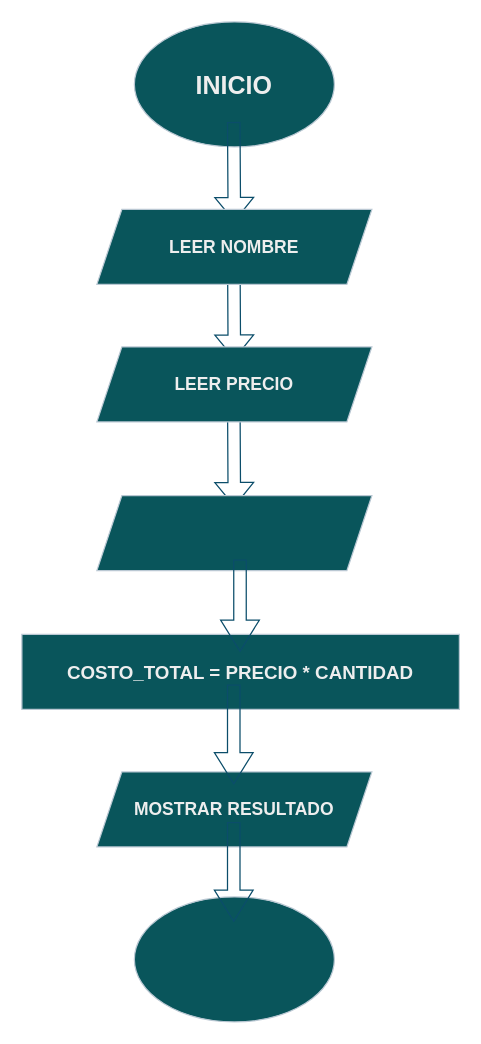
Image size: 481x1044. Some labels were removed from this diagram. The centre of each missing label's shape, as x and y in pixels:
"FIN" belongs at (x=233, y=959).
"LEER CANTIDAD" belongs at (x=234, y=532).
